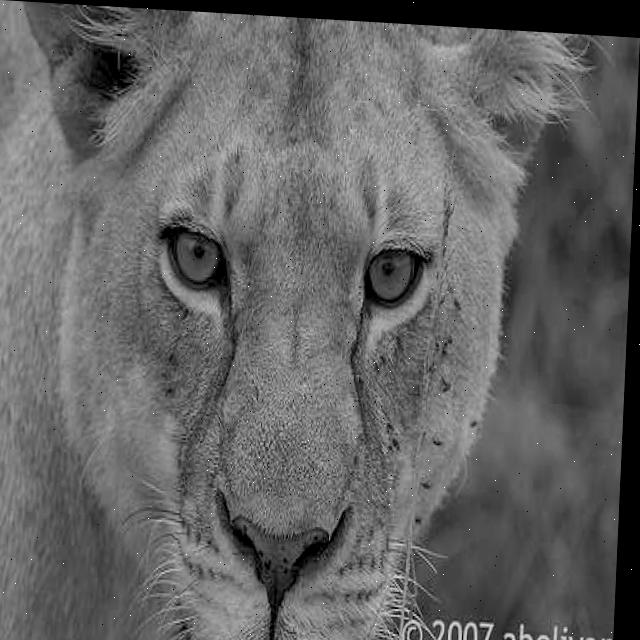Lion: (0, 31, 508, 640)
